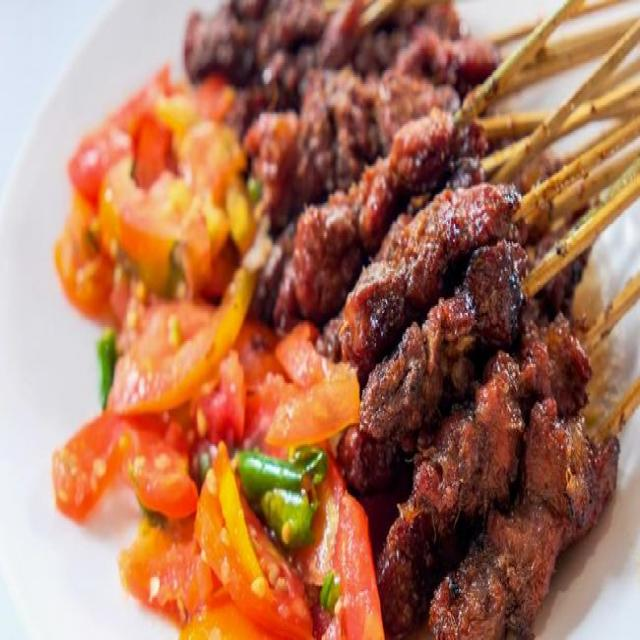sate: (178, 0, 640, 640)
